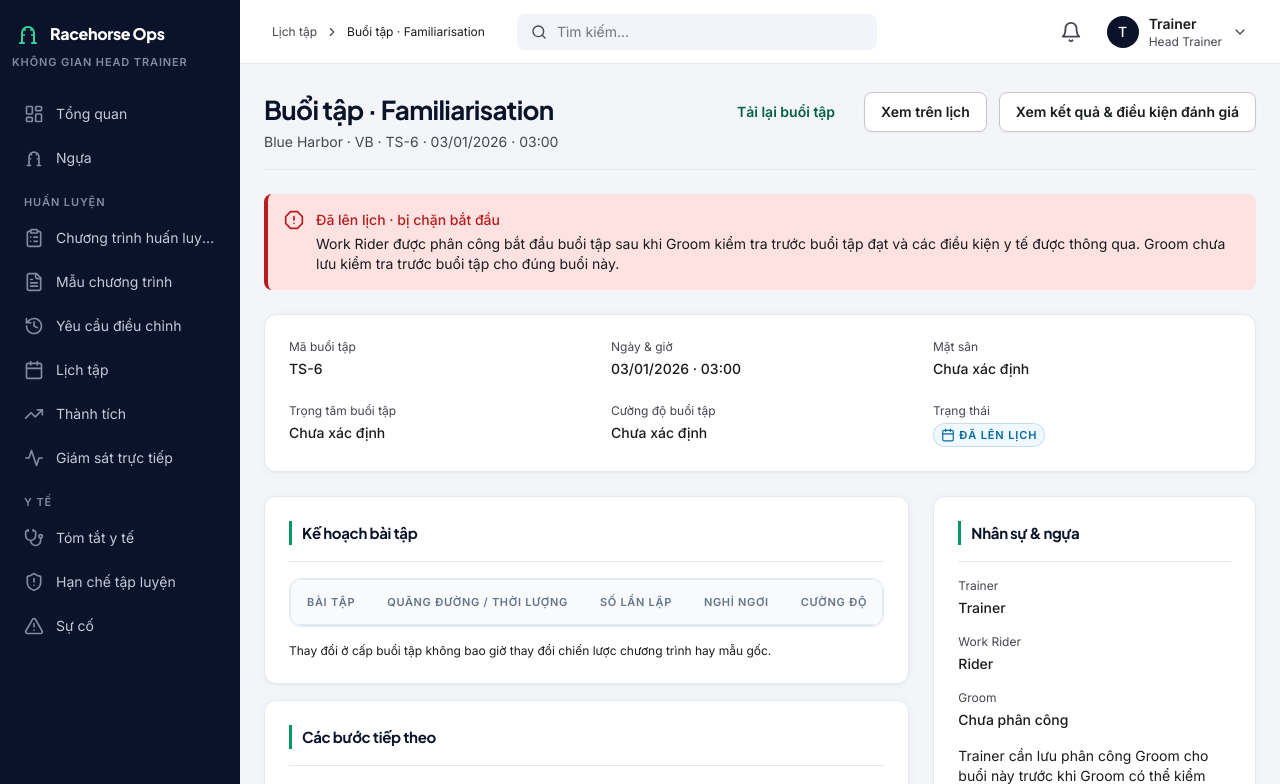
Test: keeps a reload failure visible and offers no start or assignment control to Head Trainer
The image size is (1280, 784).
Click the button "Tải lại buổi tập" at (786, 112), box [720,92,852,132]
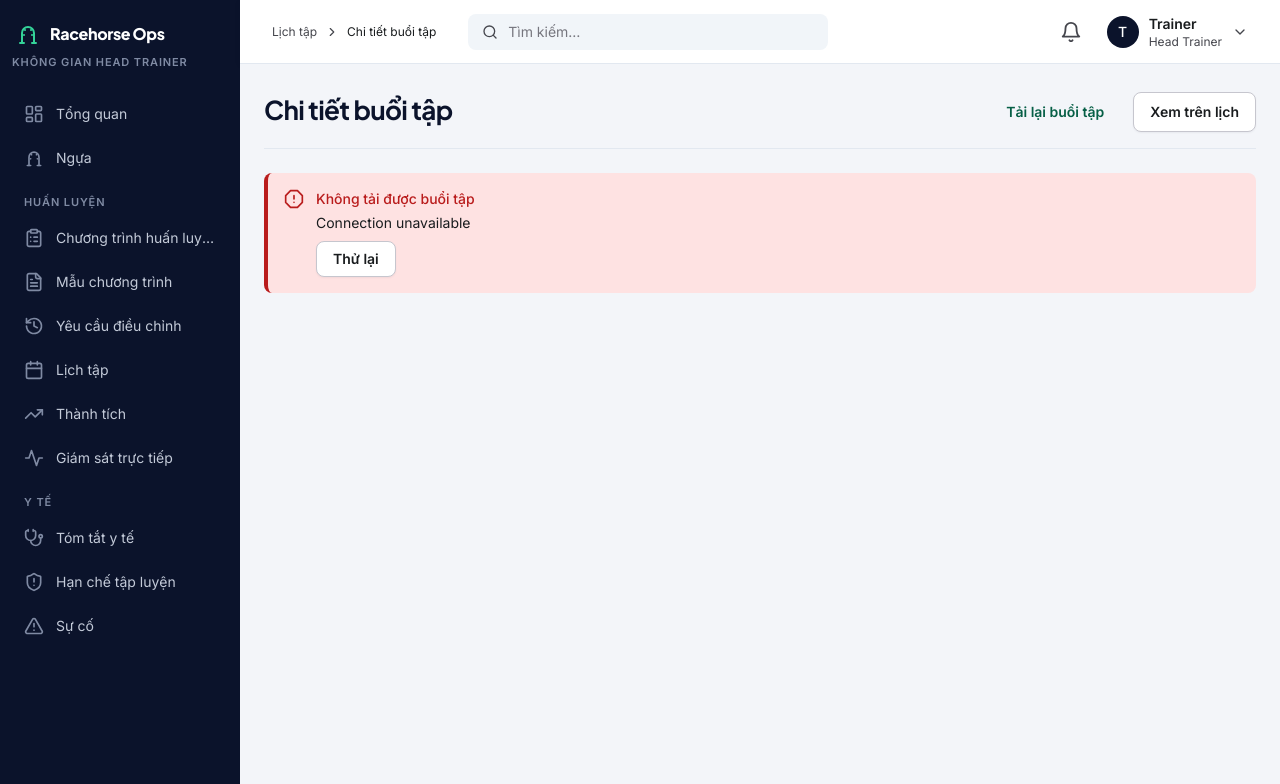
Check: the text "Connection unavailable" is shown, box [316,214,470,231]
Check: the text "bắt đầu buổi tập" is gone
